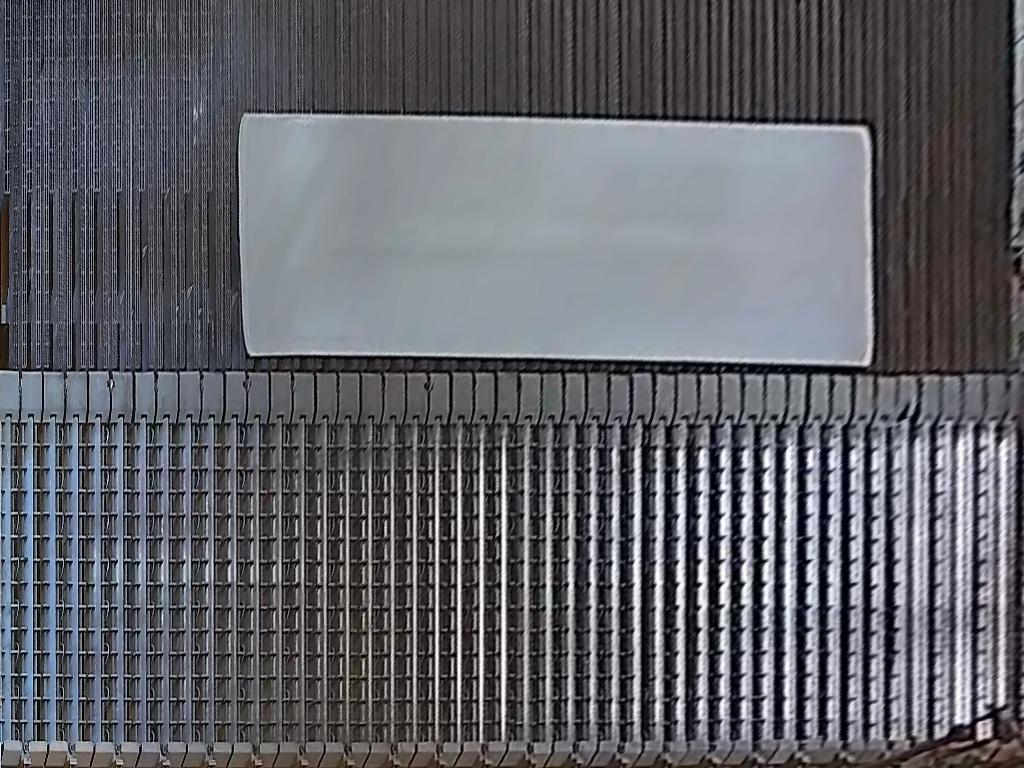steel: (237, 112, 876, 367)
